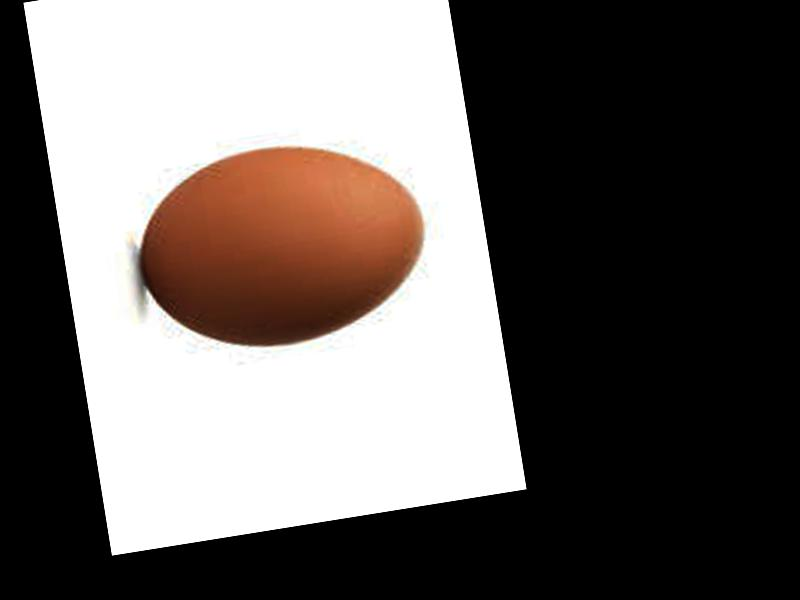Eggs: (124, 128, 435, 364)
